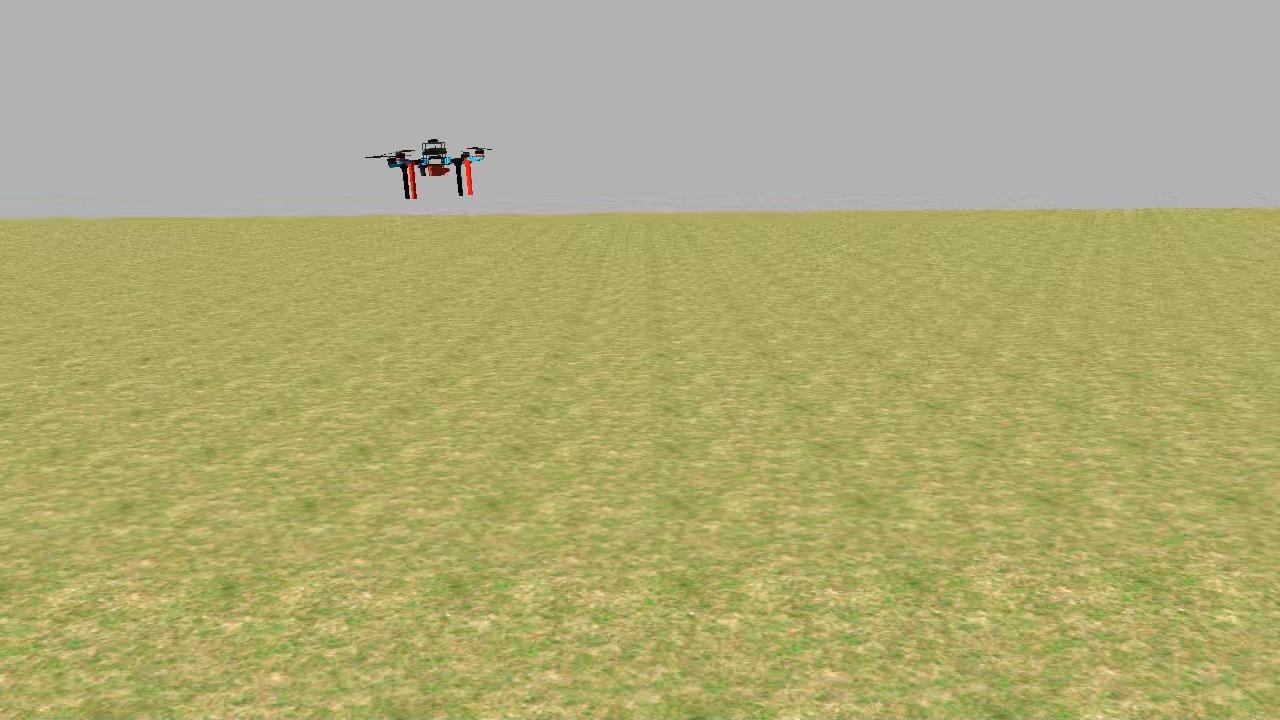UAV: (376, 130, 488, 210)
